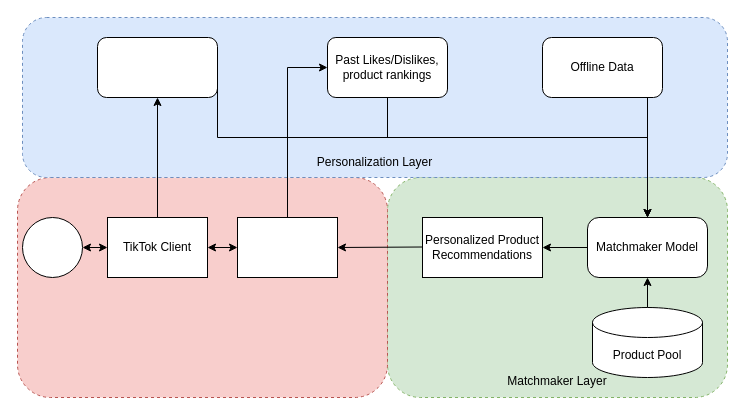
Image size: 745x415. Some labels were removed from this diagram. Each missing label, with the box of its shape:
Matchmaker FYP Card: (236, 216, 338, 278)
Realtime Data: (96, 36, 218, 98)
TikTok Integration Layer: (16, 176, 388, 398)
User: (22, 216, 82, 278)
